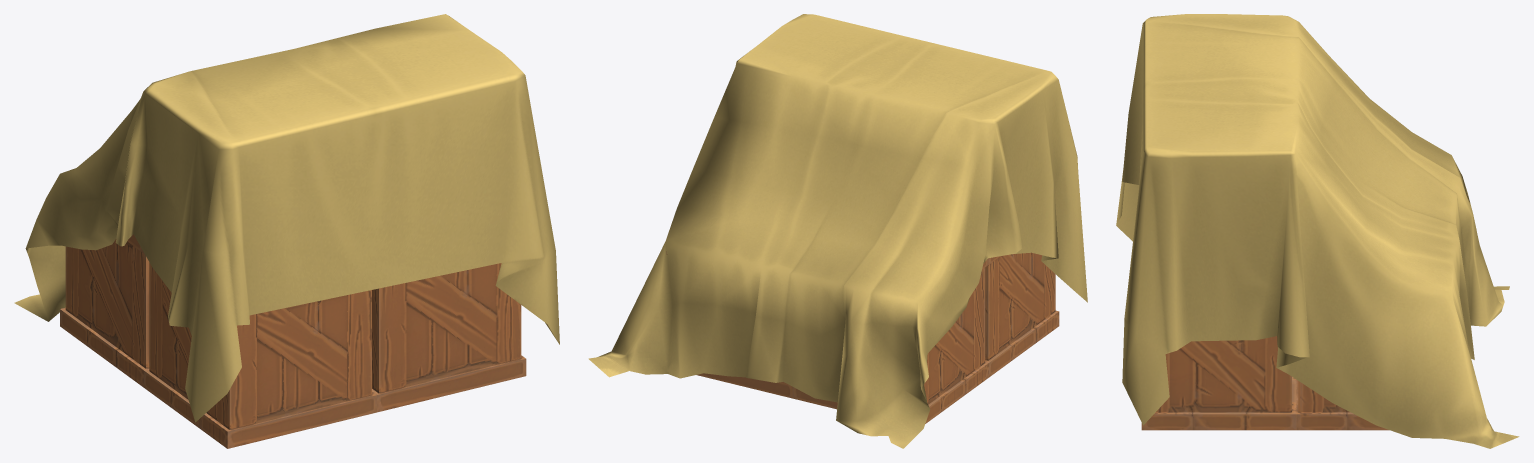
Rendered from Pfb_Box_GRP__6.fbx.
The picture shows the model from 3 angles, left to right: view 1: azimuth 30°, elevation 25°; view 2: azimuth 150°, elevation 25°; view 3: azimuth 270°, elevation 25°; orthographic projection. The views are drawn at different scales.
Parts seen in each view (by area): view 1: MAT_Canvas_02_Yellow, Mat_WoodBox_01_1; view 2: MAT_Canvas_02_Yellow, Mat_WoodBox_01_1; view 3: MAT_Canvas_02_Yellow, Mat_WoodBox_01_1.
Boxes of the visible parts, left/top/right/bottom form: MAT_Canvas_02_Yellow: left=14, top=14, right=559, bottom=422; Mat_WoodBox_01_1: left=60, top=234, right=526, bottom=448; MAT_Canvas_02_Yellow: left=588, top=14, right=1087, bottom=448; Mat_WoodBox_01_1: left=666, top=251, right=1059, bottom=423; MAT_Canvas_02_Yellow: left=1116, top=14, right=1519, bottom=448; Mat_WoodBox_01_1: left=1141, top=336, right=1389, bottom=430.
Size of the model in its own units: 2.08 by 1.52 by 1.98.
2 materials, 2 textured.
